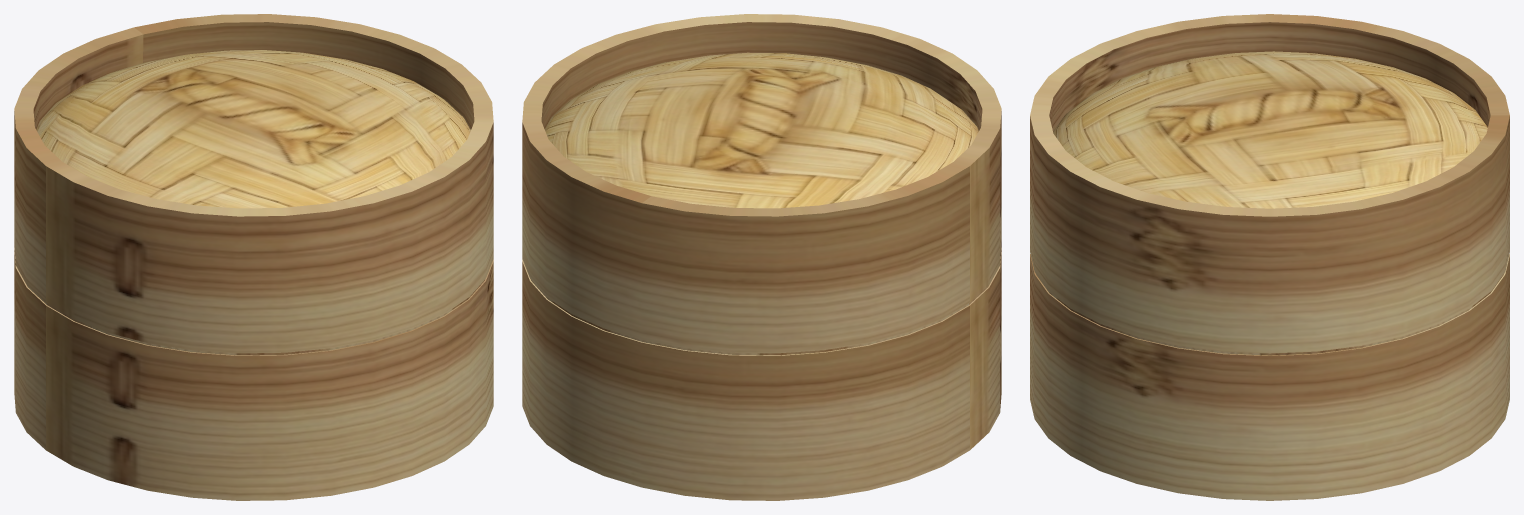
File: seiro.fbx
The picture shows the model from 3 angles, left to right: view 1: azimuth 30°, elevation 25°; view 2: azimuth 150°, elevation 25°; view 3: azimuth 270°, elevation 25°; orthographic projection.
Parts seen in each view (by area): view 1: 円柱, 球; view 2: 円柱, 球; view 3: 円柱, 球.
Part boxes in pixels (bbox=[...]): 円柱: bbox=[14, 14, 493, 500]; 球: bbox=[36, 50, 470, 208]; 円柱: bbox=[522, 14, 1001, 500]; 球: bbox=[544, 52, 978, 208]; 円柱: bbox=[1030, 14, 1509, 500]; 球: bbox=[1053, 51, 1487, 208].
Bounding box in the file's own units: 200 × 134 × 200.
